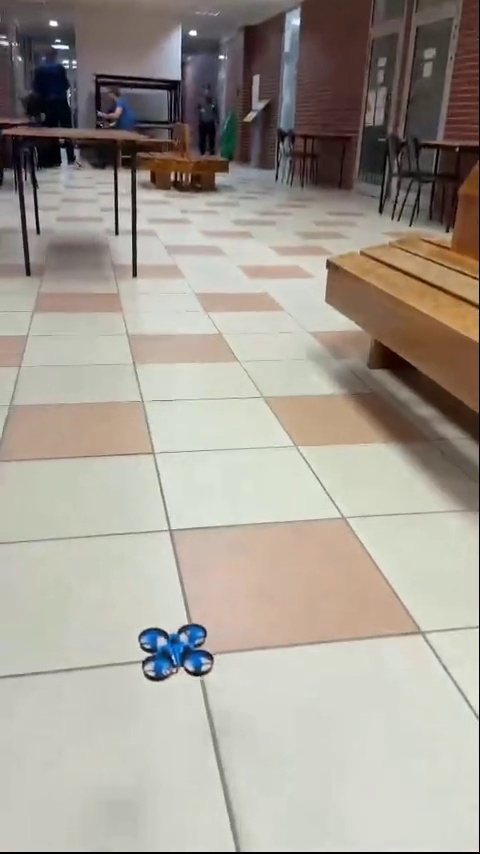drone: (137, 626, 213, 677)
no vest: (20, 43, 86, 165), (92, 84, 144, 132), (194, 78, 218, 159)
